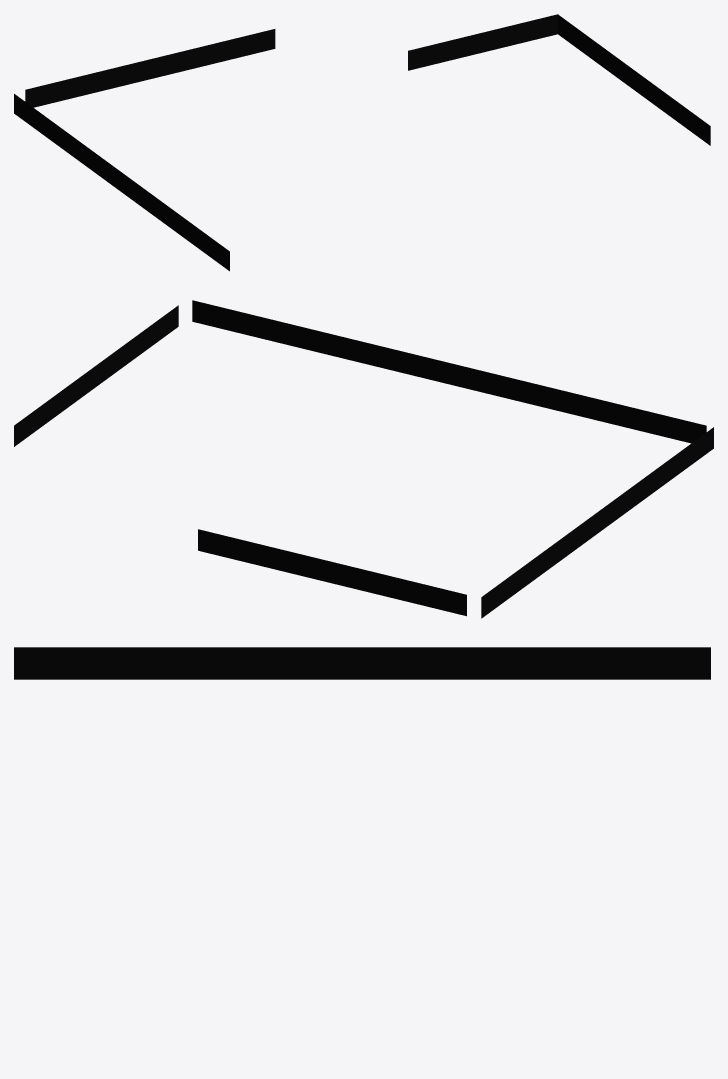
File: LAKETOWN_GENHOUSE1_PS_GH1_GRIMETRIM3294.fbx
3 renders of one model, top to bottom at view 1: azimuth 30°, elevation 25°; view 2: azimuth 150°, elevation 25°; view 3: azimuth 270°, elevation 25°, orthographic. The views are drawn at different scales.
Parts seen in each view (by area): view 1: LAKETOWN_GENHOUSE1_PS_GH1_GRIMETRIM3294; view 2: LAKETOWN_GENHOUSE1_PS_GH1_GRIMETRIM3294; view 3: LAKETOWN_GENHOUSE1_PS_GH1_GRIMETRIM3294.
Part boxes in pixels (x1,y1,x2,y2): LAKETOWN_GENHOUSE1_PS_GH1_GRIMETRIM3294: (14,14,710,271); LAKETOWN_GENHOUSE1_PS_GH1_GRIMETRIM3294: (14,300,713,618); LAKETOWN_GENHOUSE1_PS_GH1_GRIMETRIM3294: (14,647,710,679).
Bounding box in the file's own units: 78667 × 3078 × 60491.
1 material, 1 textured.
